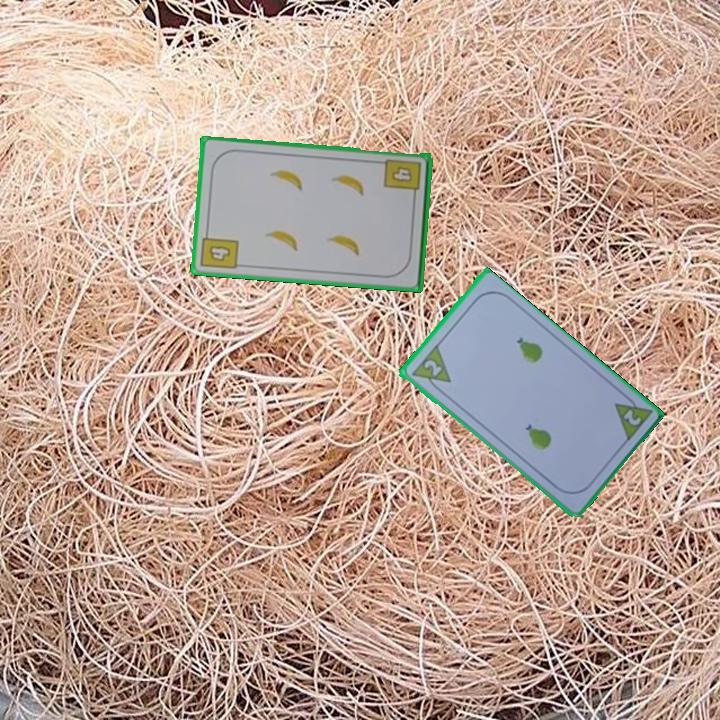2p: (610, 389, 655, 445), (420, 356, 444, 380)
4b: (197, 227, 241, 273), (381, 156, 424, 201)
